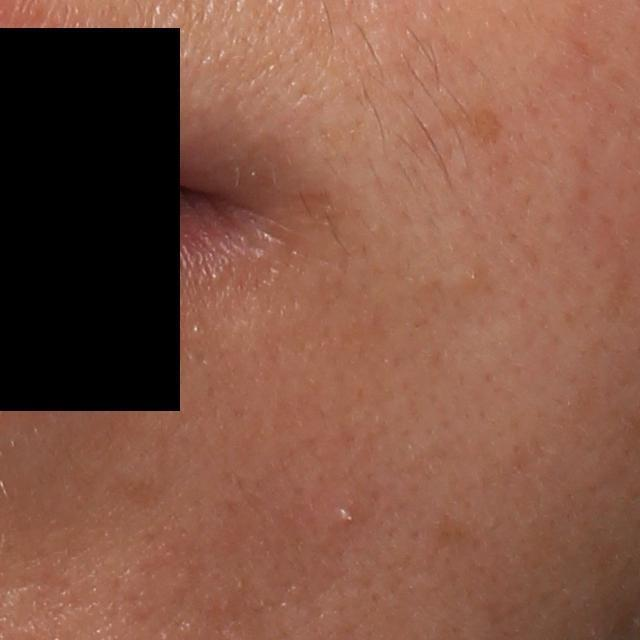pustule: (334, 496, 357, 526)
